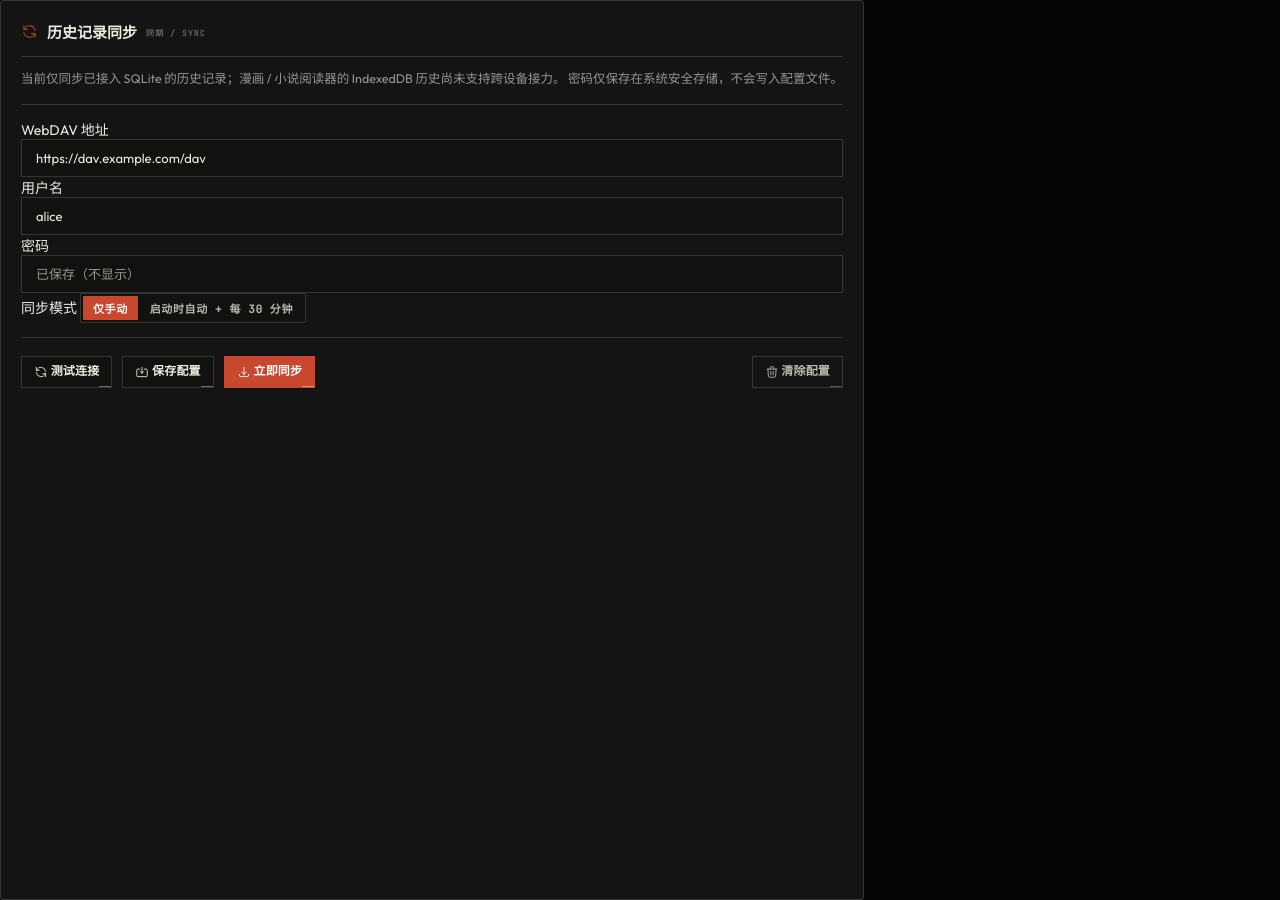
SyncSettings › 同步完成后结果条展示上传 n / 下载 m / 冲突 k
The width and height of the screenshot is (1280, 900).
Click the button "立即同步": (270, 372) [224, 356, 315, 388]
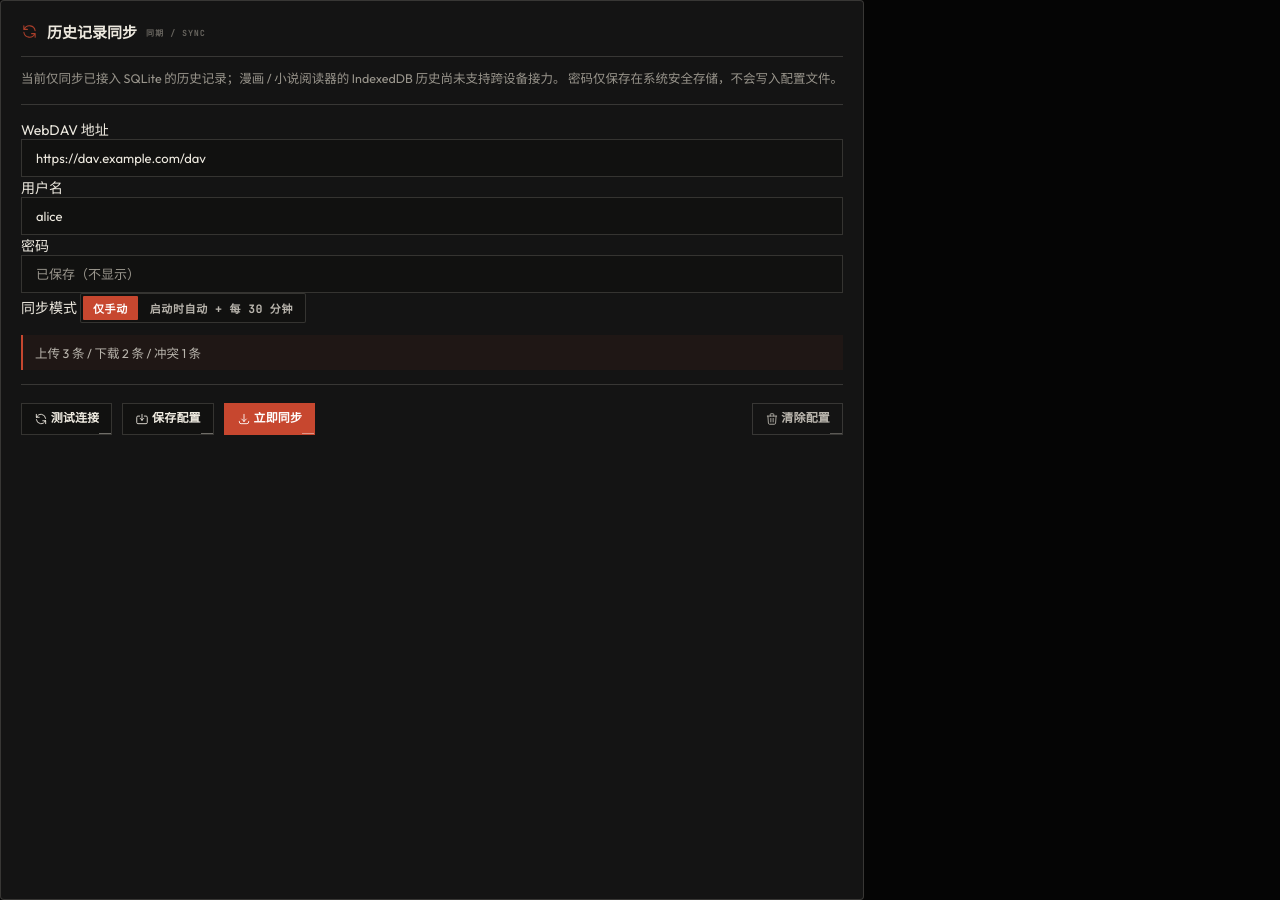
Now the text "上传 3 条 / 下载 2 条 / 冲突 1 条" is shown, box [21, 335, 843, 370]
